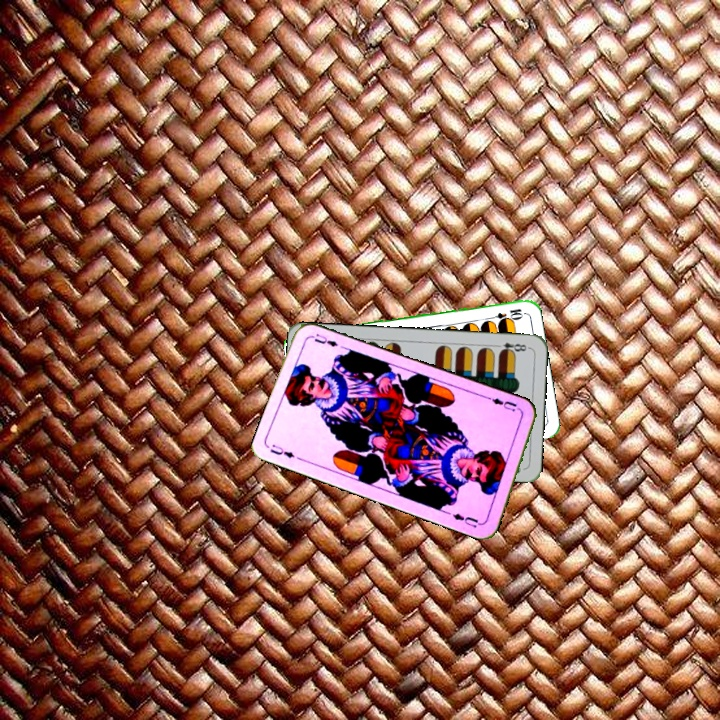E10: (485, 304, 525, 323)
E8: (491, 338, 531, 356)
EU: (484, 394, 524, 416), (266, 440, 297, 461)
